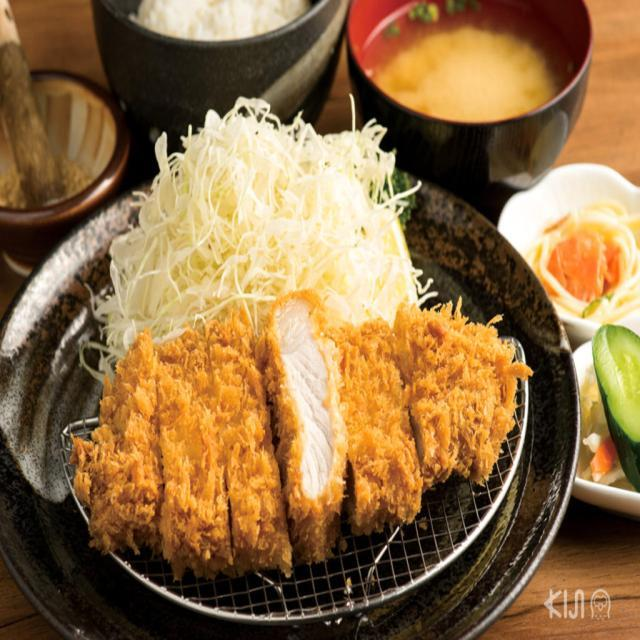cac loai rau cu: (108, 106, 413, 323), (540, 204, 640, 323), (593, 330, 640, 488)
com: (116, 0, 317, 43)
thit heo: (76, 295, 518, 573)
thit heo chien xu tonkatsu: (62, 0, 640, 611)
